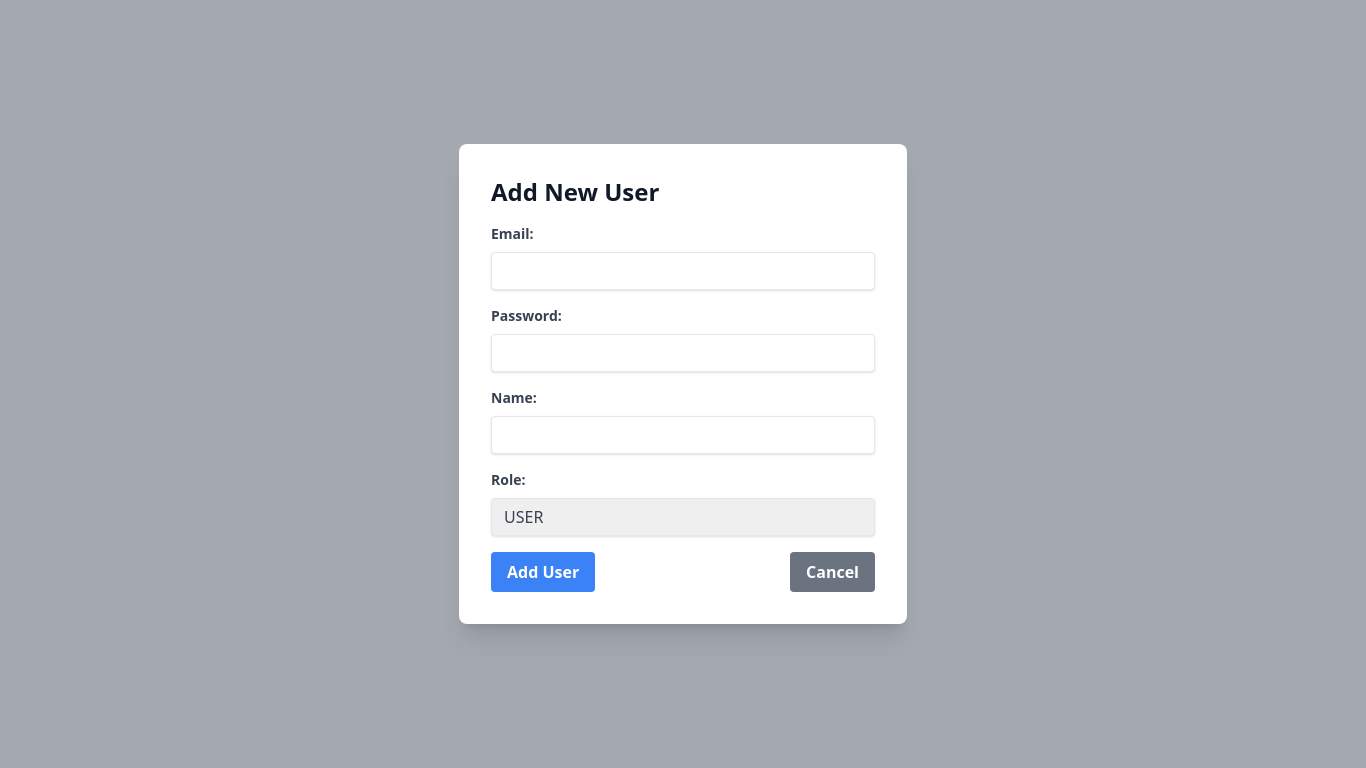
Test: UserForm › displays error message on API failure
Type "fail@example.com" into the field labelled "Email:".
click(683, 271); type("fail@example.com")  # box [491,252,875,290]
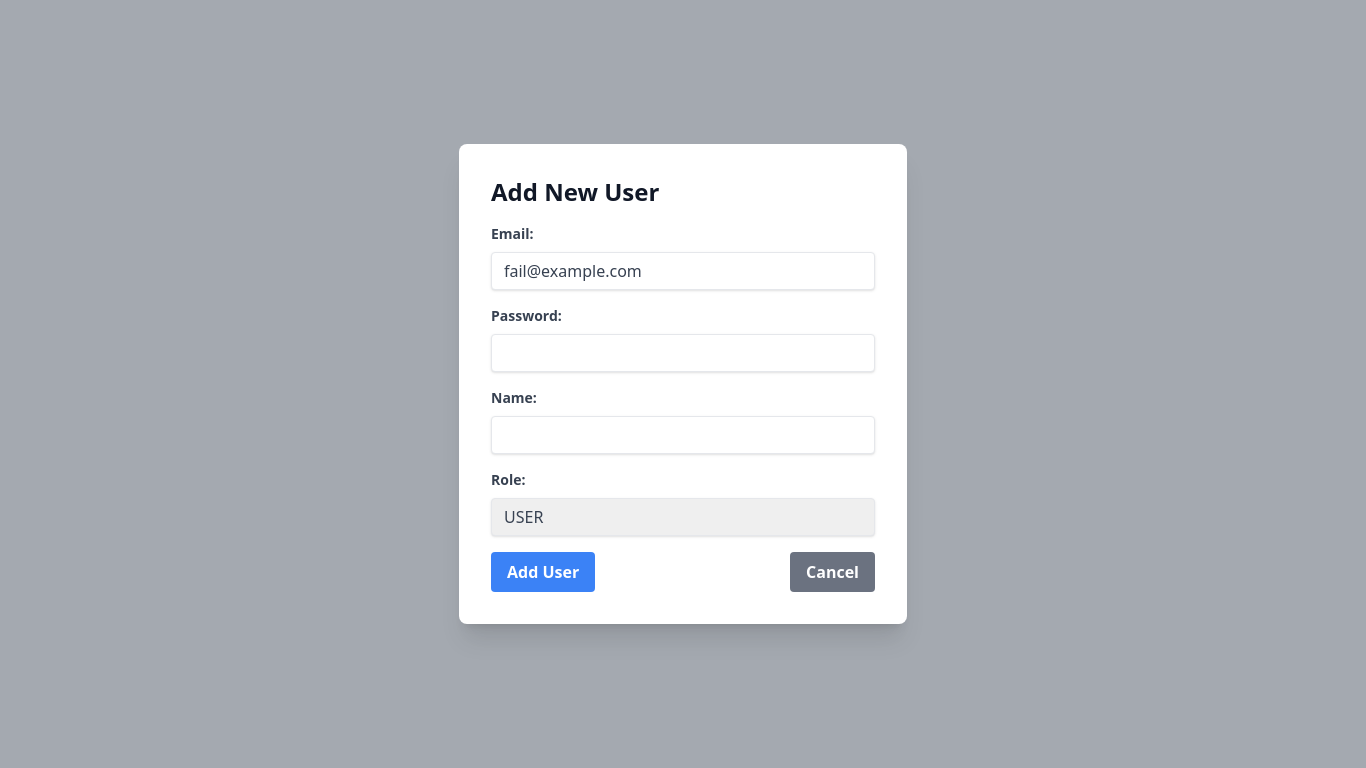
Type "password" into the password field labelled "Password:".
click(683, 353); type("password")  # box [491,334,875,372]
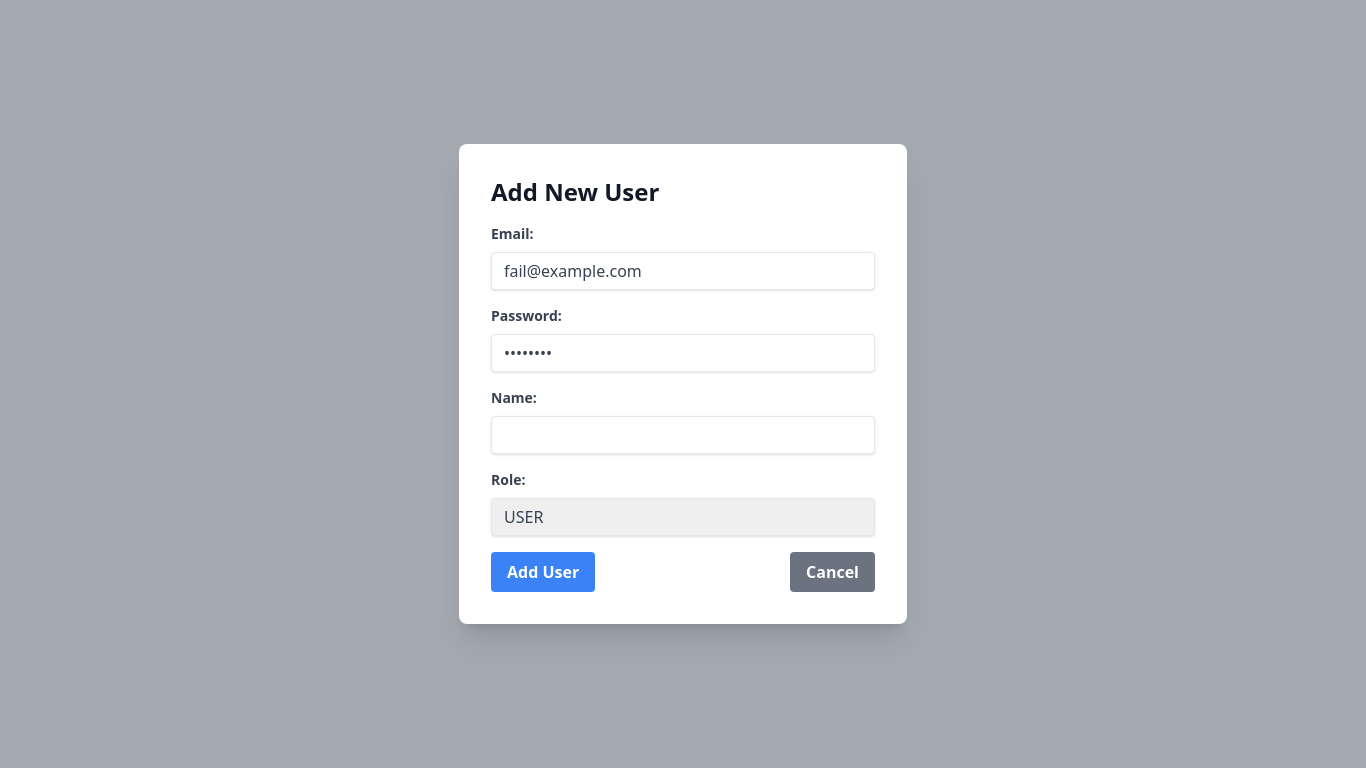
Click the button "Add User".
click(543, 572)  # box [491,552,595,592]
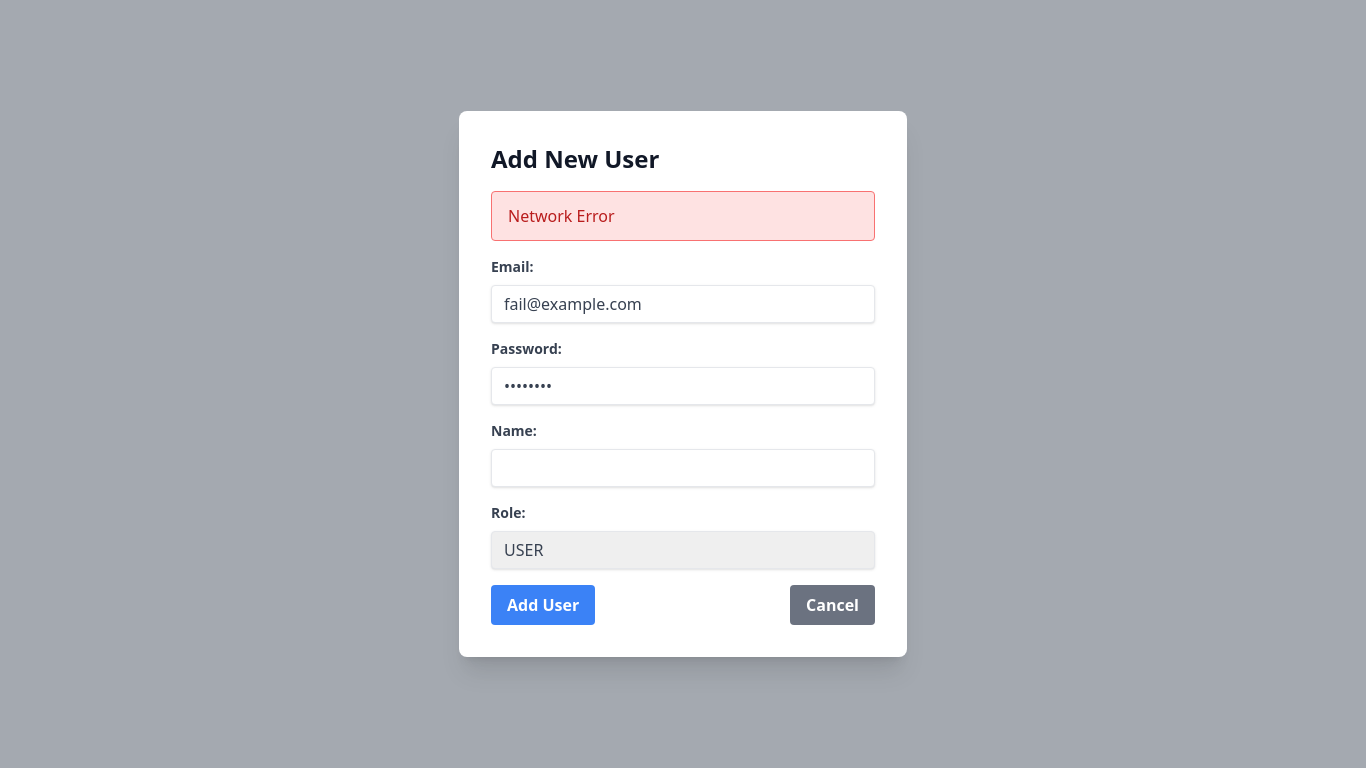
Expected: the button "Add User" is enabled, [491,585,595,625]
Now the text "Network Error" is shown, box [491,191,875,241]
